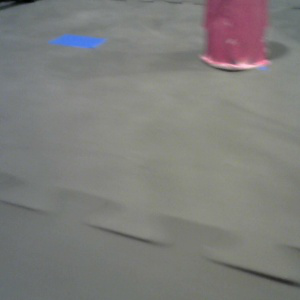Right: (198, 1, 271, 71)
